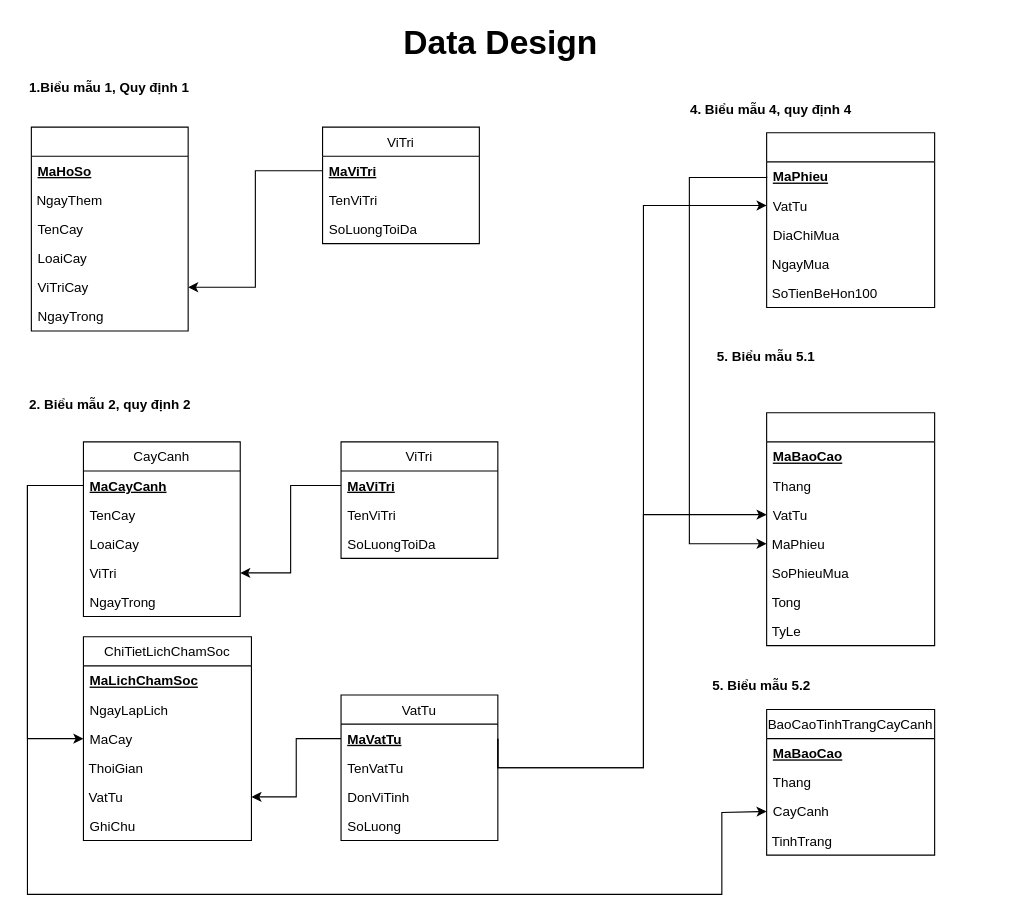
Image size: 1014x923. Some labels were removed from this diagram. Each missing label, with the box of its shape:
BaoCaoChiPhiChamSoc: (766, 412, 935, 646)
HoSoCayMoi: (30, 126, 188, 331)
PhieuMuaVatTu: (766, 132, 935, 307)
